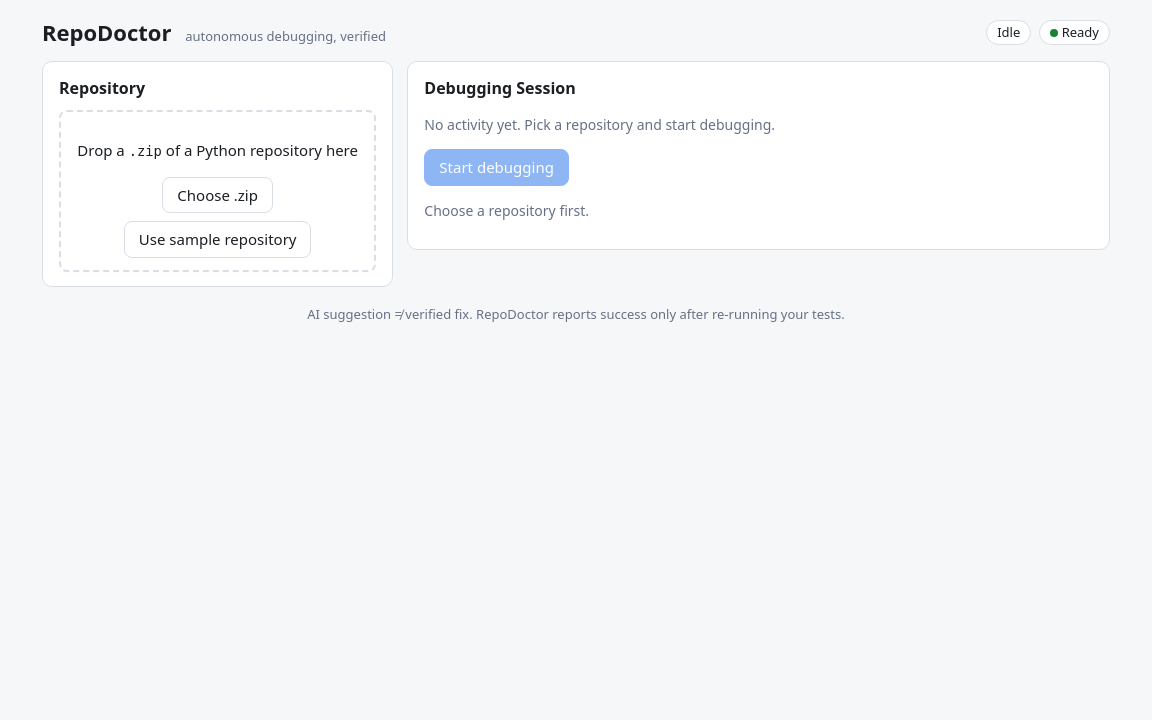
Test: errors and controls › shows a failed start, re-enables the button and retries without creating a second session
Later steps or results of the test are not shown.
Click the button "Use sample repository" at (218, 239), box top-left (124, 221), bottom-right (311, 258)
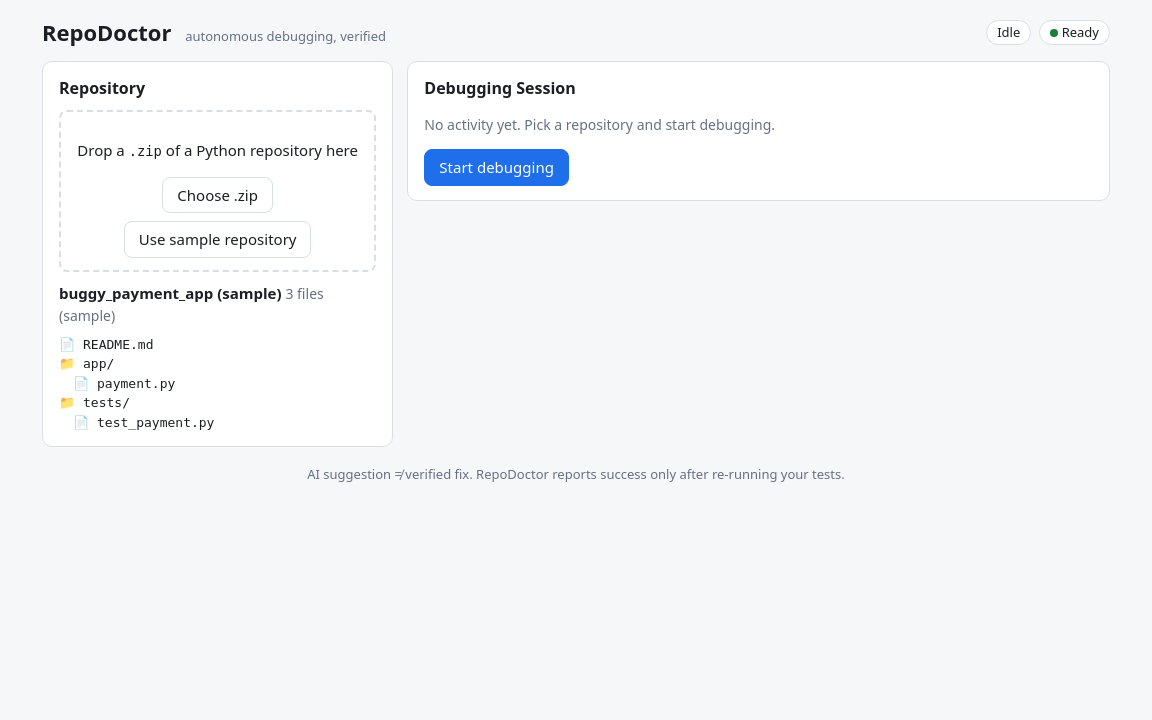
Expected: the list named "Repository files" is shown, top-left (59, 337), bottom-right (214, 430)
Click the button "Start debugging" at (497, 167), box top-left (424, 149), bottom-right (569, 186)
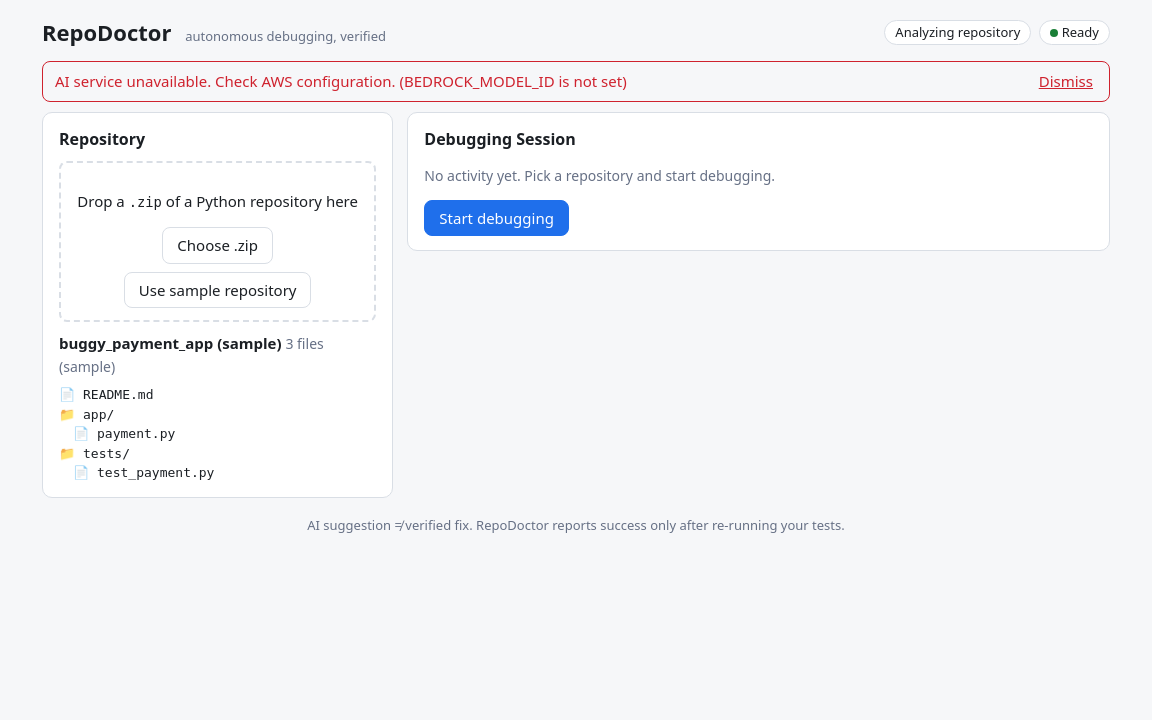
Expected: the button "Start debugging" is enabled, top-left (424, 200), bottom-right (569, 236)
Expected: the 2nd message shows "AI service unavailable. Check AWS configuration.", top-left (55, 71), bottom-right (627, 91)
